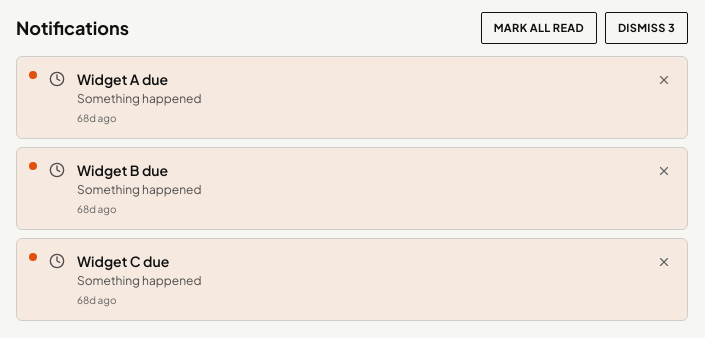
Test: #239: the per-row dismiss X is disabled while the bulk dismiss loop runs
The image size is (705, 338).
Click the button "Dismiss 3". click: (646, 28)
box: [605, 12, 688, 44]
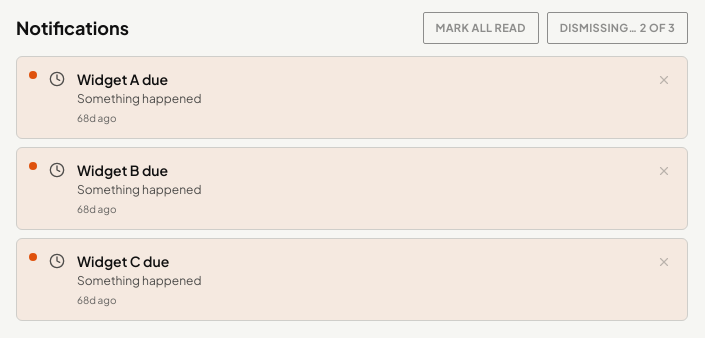
expect the button "Dismissing… 2 of 3" is shown: met, box [547, 12, 688, 44]
expect the 1st button named "Dismiss notification" is disabled: met
expect the 2nd button named "Dismiss notification" is disabled: met, box [653, 160, 675, 182]
Click the 1st button named "Dismiss notification". click: (664, 80)
box: [653, 69, 675, 91]
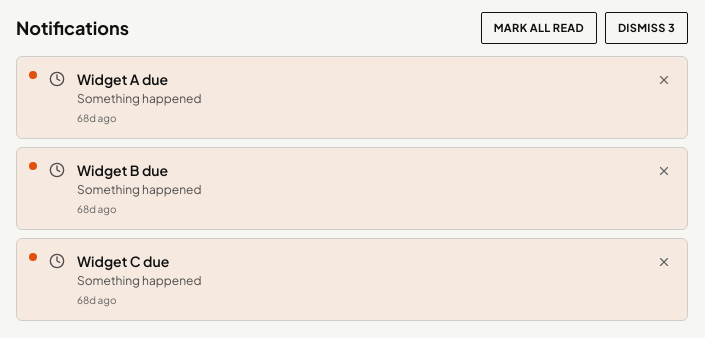
expect the 1st button named "Dismiss notification" is enabled: met, box [653, 69, 675, 91]
